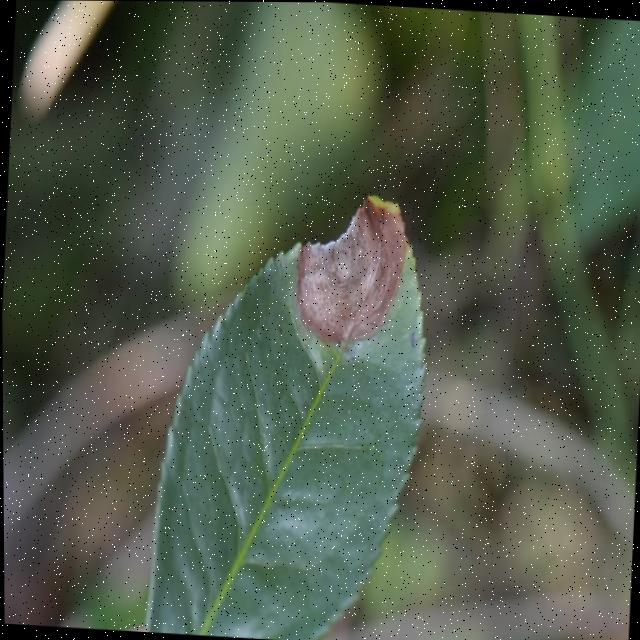Tea cloud leaf blight: (292, 188, 406, 347)
